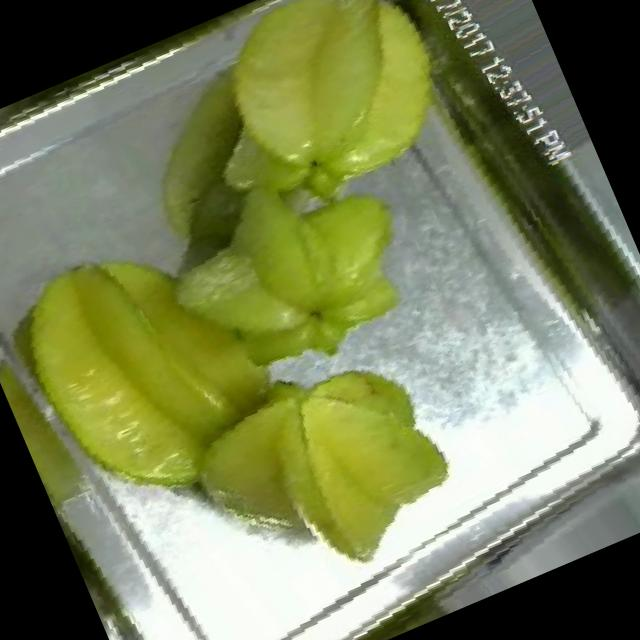fruit: (0, 172, 357, 569), (167, 312, 498, 626), (149, 0, 493, 249)
